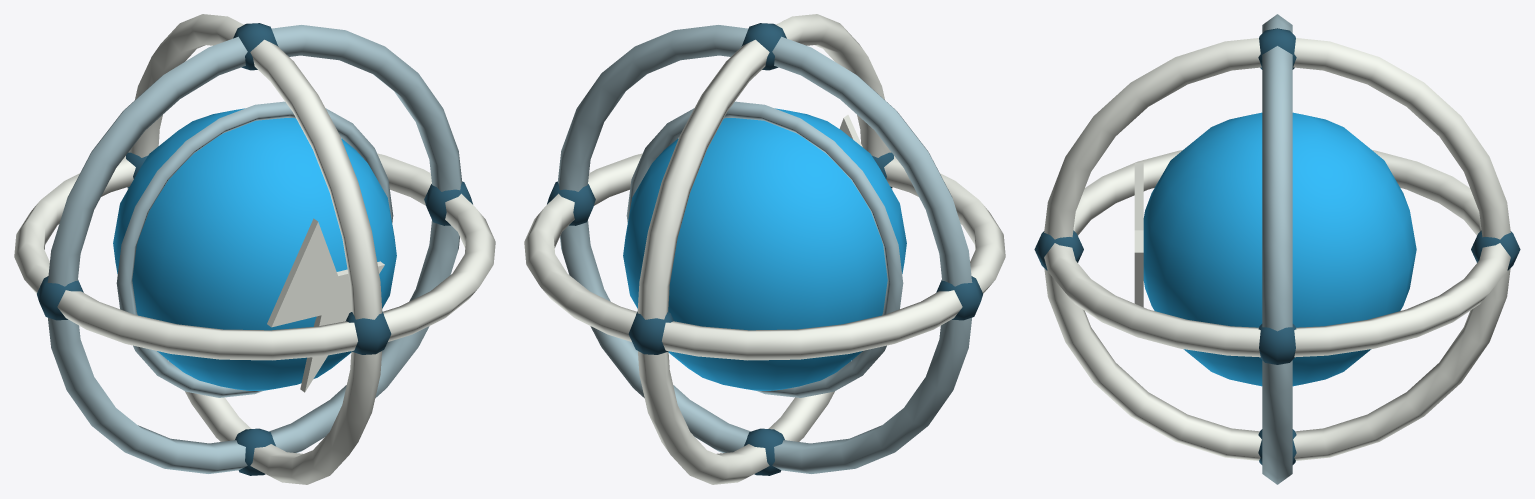
The model's file is shield.glb.
3 renders of one model, left to right at view 1: azimuth 30°, elevation 25°; view 2: azimuth 150°, elevation 25°; view 3: azimuth 270°, elevation 25°, orthographic. The views are drawn at different scales.
Visible parts, largest first — view 1: Coastal club | shield; view 2: Coastal club | shield; view 3: Coastal club | shield.
Boxes of the visible parts, x1,y1,x2,y2 form: Coastal club | shield: (14, 14, 495, 484); Coastal club | shield: (524, 14, 1005, 484); Coastal club | shield: (1034, 14, 1520, 484).
Size of the model in its own units: 0.646 by 0.646 by 0.646.
